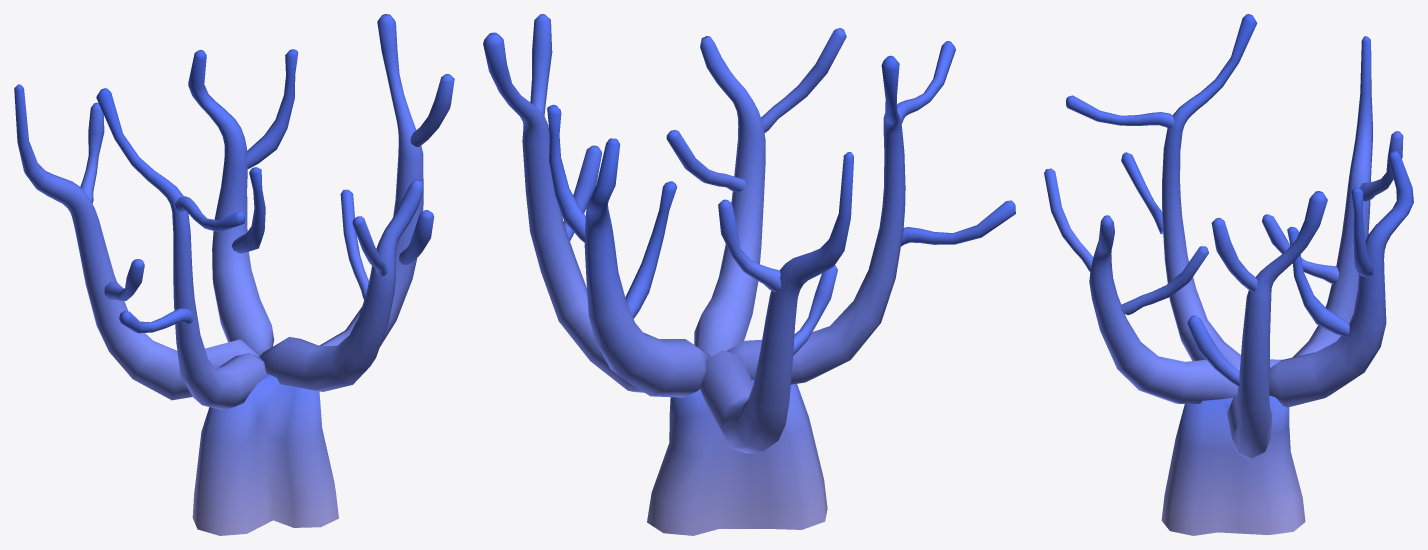
Rendered from Tree_01.fbx.
The picture shows the model from 3 angles, left to right: view 1: azimuth 30°, elevation 25°; view 2: azimuth 150°, elevation 25°; view 3: azimuth 270°, elevation 25°; orthographic projection. The views are drawn at different scales.
Visible parts, largest first — view 1: Tree_01; view 2: Tree_01; view 3: Tree_01.
Boxes of the visible parts, left/top/right/bottom form: Tree_01: left=14, top=14, right=454, bottom=535; Tree_01: left=483, top=14, right=1015, bottom=535; Tree_01: left=1044, top=14, right=1413, bottom=535.
Size of the model in its own units: 410 by 459 by 361.
